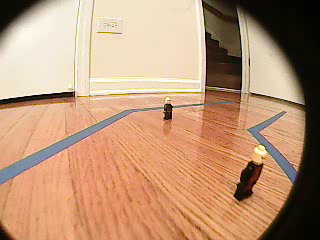Person: (234, 144, 270, 203), (163, 97, 175, 120)
